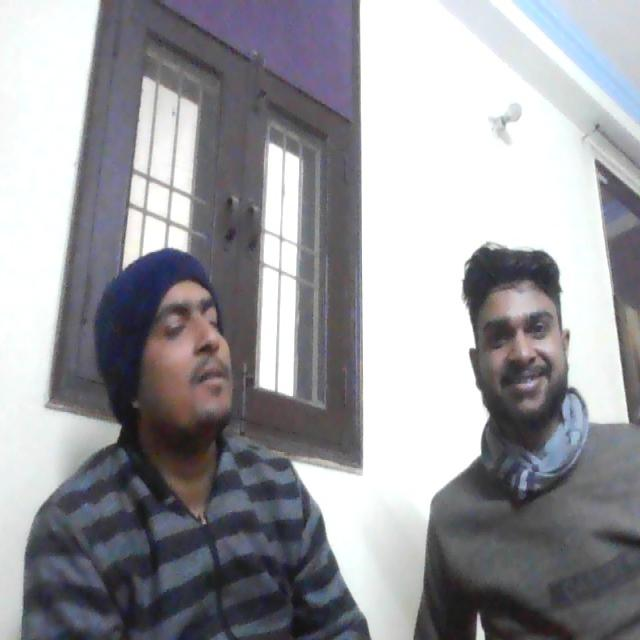real: (124, 224, 242, 448), (468, 237, 568, 427)
